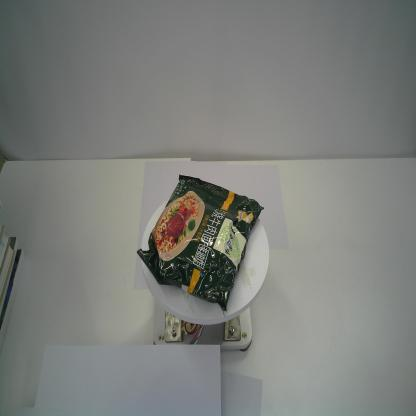Instant Noodles: (134, 171, 266, 321)
